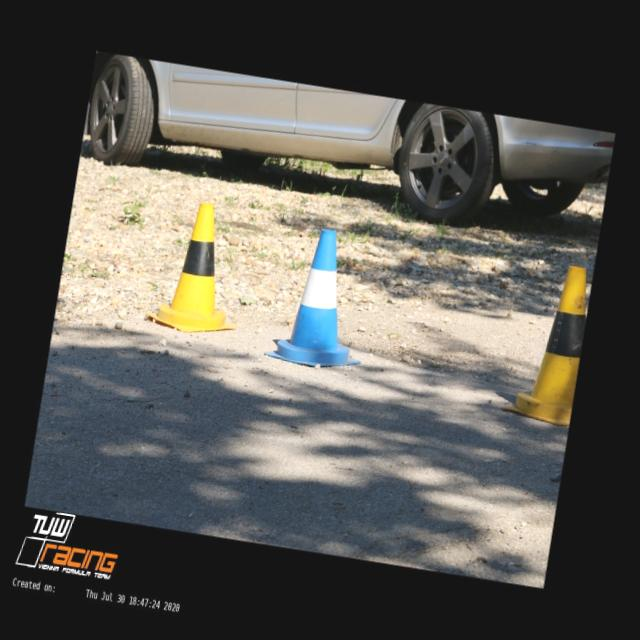blue_cone: (262, 222, 380, 374)
yellow_cone: (500, 257, 594, 426), (144, 196, 254, 340)
